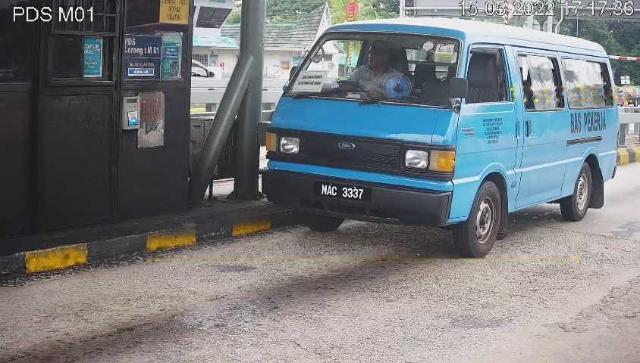License_Plate: (314, 182, 372, 207)
van: (262, 19, 620, 260)
